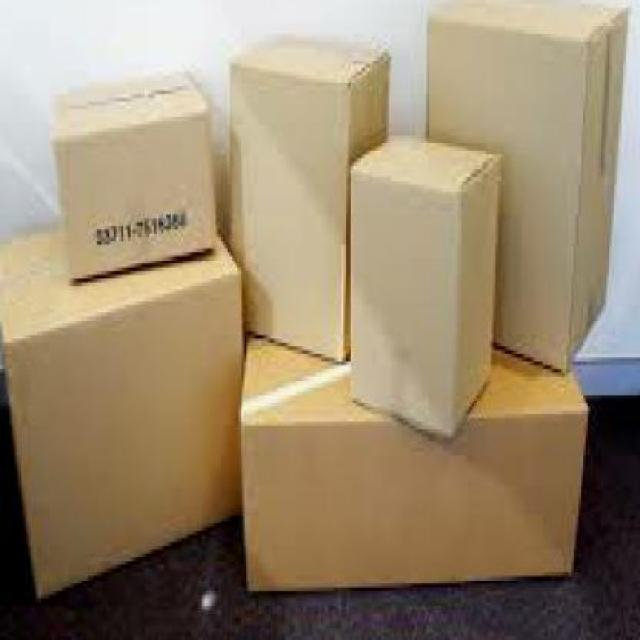box: (234, 342, 590, 610), (0, 226, 249, 599), (427, 0, 635, 380), (228, 26, 390, 377), (348, 120, 498, 456), (47, 72, 221, 290)
